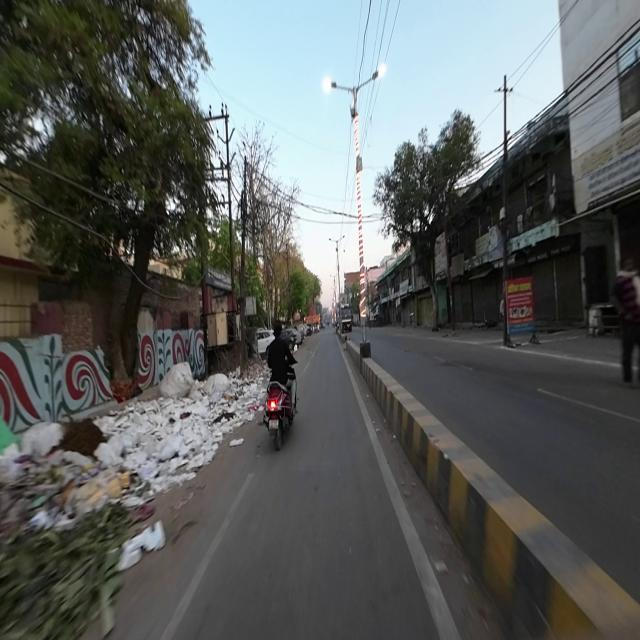Garbage: (0, 422, 126, 546), (127, 406, 212, 476), (162, 362, 234, 399), (122, 522, 164, 568), (211, 404, 244, 441), (128, 476, 156, 508), (236, 376, 258, 404)
